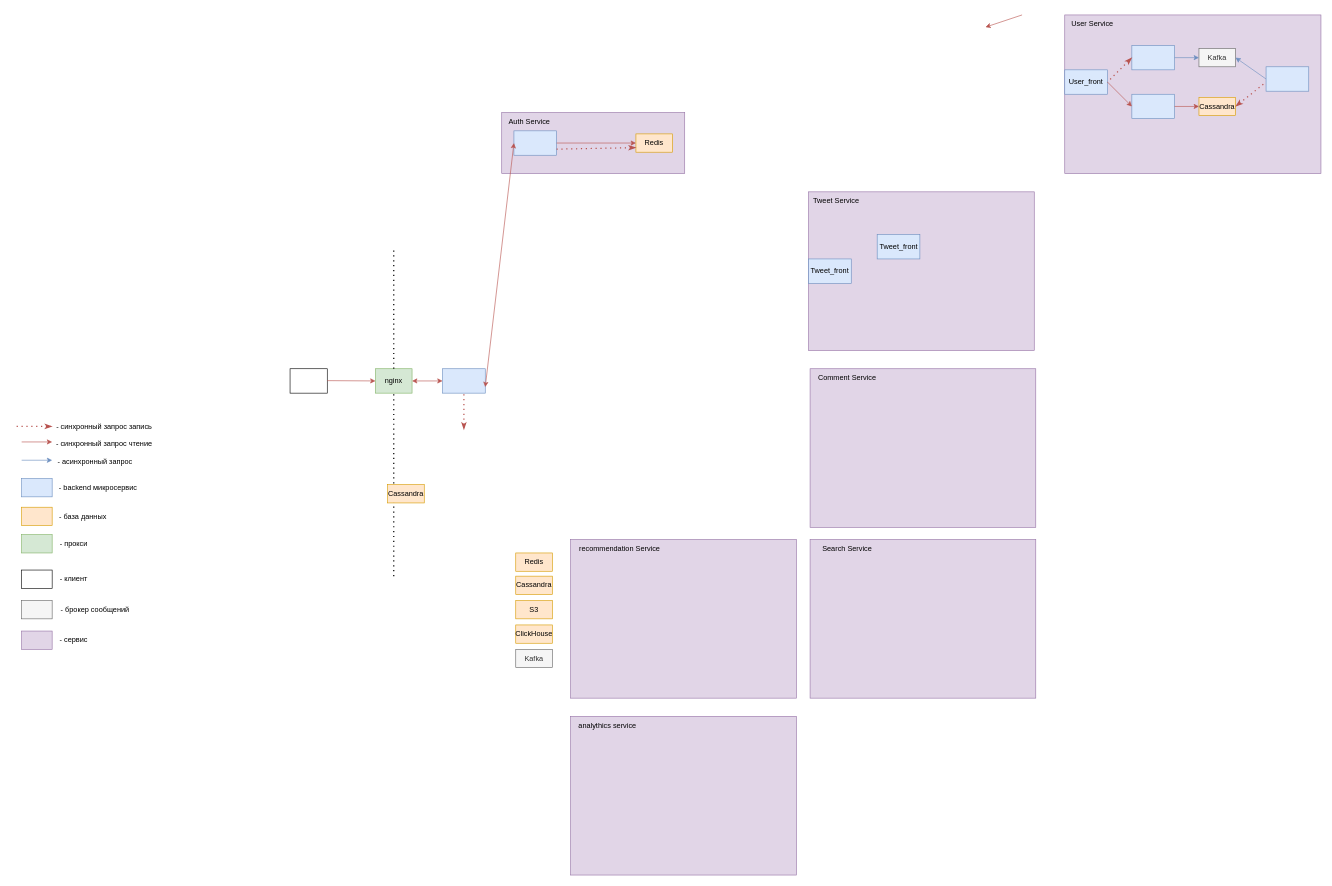
Image size: 1332x886. Some labels were removed from this diagram. Here are the shapes that lost their labels. From the top down, the centre of each, then its label:
the point at 1153,57: command
the point at 1287,78: sync
the point at 1153,106: query
the point at 535,142: Auth
the point at 308,380: client
the point at 463,380: API GateWay
